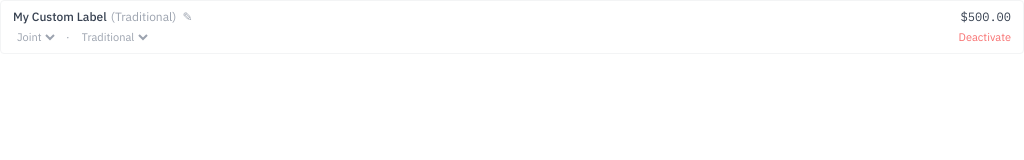
SubAccountRow label editor › Escape cancels without committing
The width and height of the screenshot is (1024, 160).
Step 1. Click the button titled "Edit label" → (187, 17), box top-left (182, 9), bottom-right (192, 25)
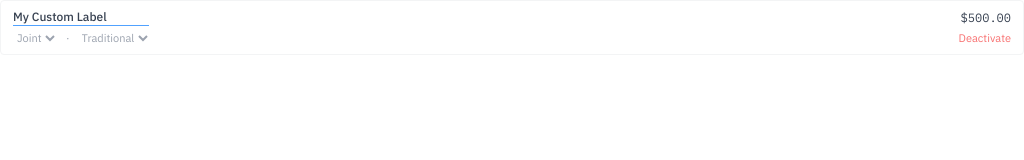
Step 2. Replace the text in the field showing "My Custom Label" with "Discarded" → (81, 18), box top-left (13, 9), bottom-right (149, 26)
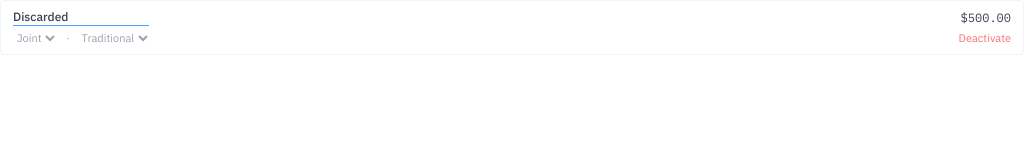
Step 3. Press Escape in the field showing "My Custom Label", box top-left (13, 9), bottom-right (149, 26)
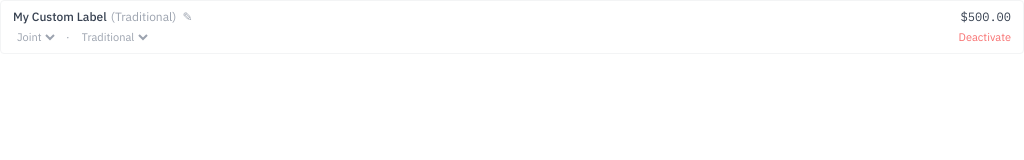
Result: the text "My Custom Label" is shown at top-left (13, 9), bottom-right (107, 25)
